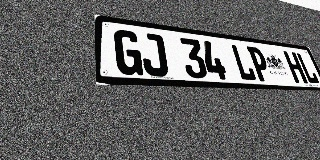3: (180, 37, 208, 79)
4: (200, 40, 228, 80)
G: (114, 29, 144, 76)
H: (283, 51, 308, 83)
J: (140, 32, 169, 77)
L: (230, 44, 257, 81), (296, 53, 320, 84)
P: (246, 46, 273, 82)
